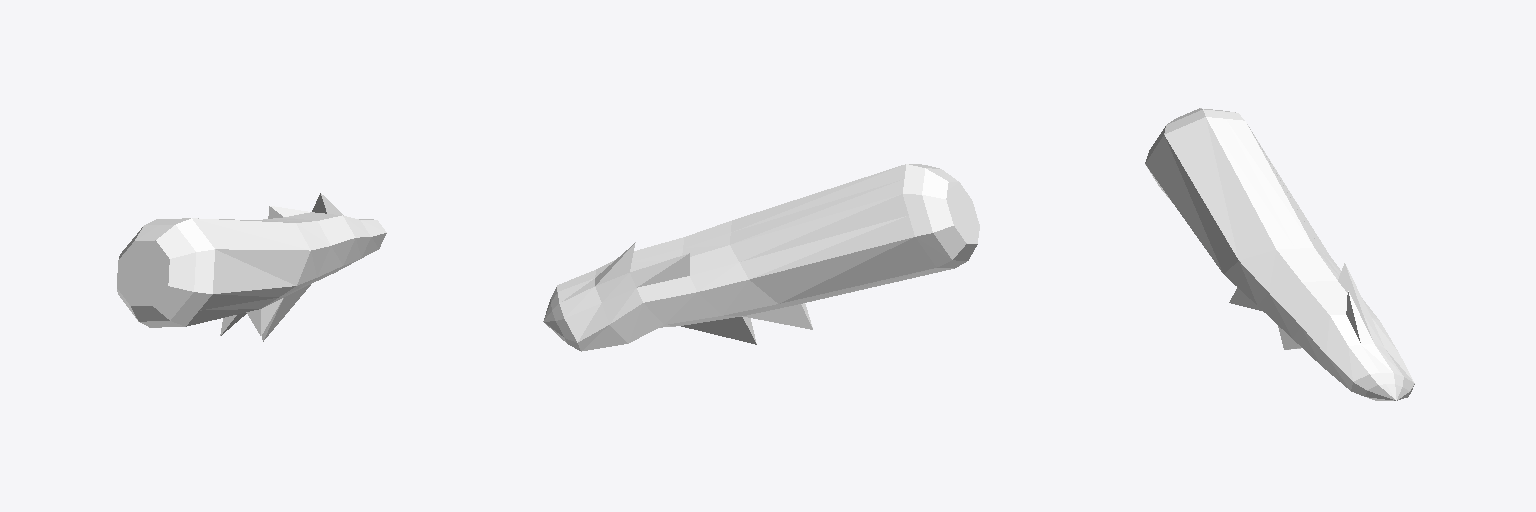
Rendered from LowArmR.obj.
3 views of the same model, side by side, from view 1: azimuth 30°, elevation 25°; view 2: azimuth 150°, elevation 25°; view 3: azimuth 270°, elevation 25° (orthographic).
Parts seen in each view (by area): view 1: Lowerarmr1; view 2: Lowerarmr1; view 3: Lowerarmr1.
Boxes of the visible parts, x1=… form: Lowerarmr1: x1=117, y1=193, x2=386, y2=341; Lowerarmr1: x1=543, y1=164, x2=979, y2=351; Lowerarmr1: x1=1145, y1=108, x2=1414, y2=400.
Bounding box in the file's own units: 3.33 × 1.69 × 2.3.